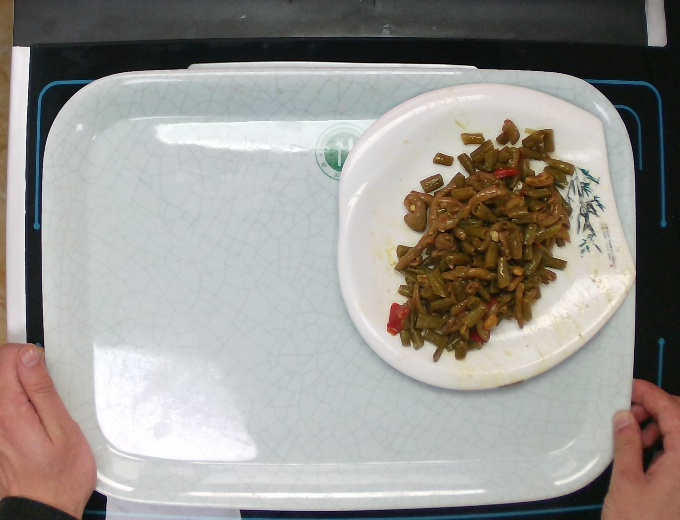JYsf-Mian_Pan: (329, 77, 638, 397)
